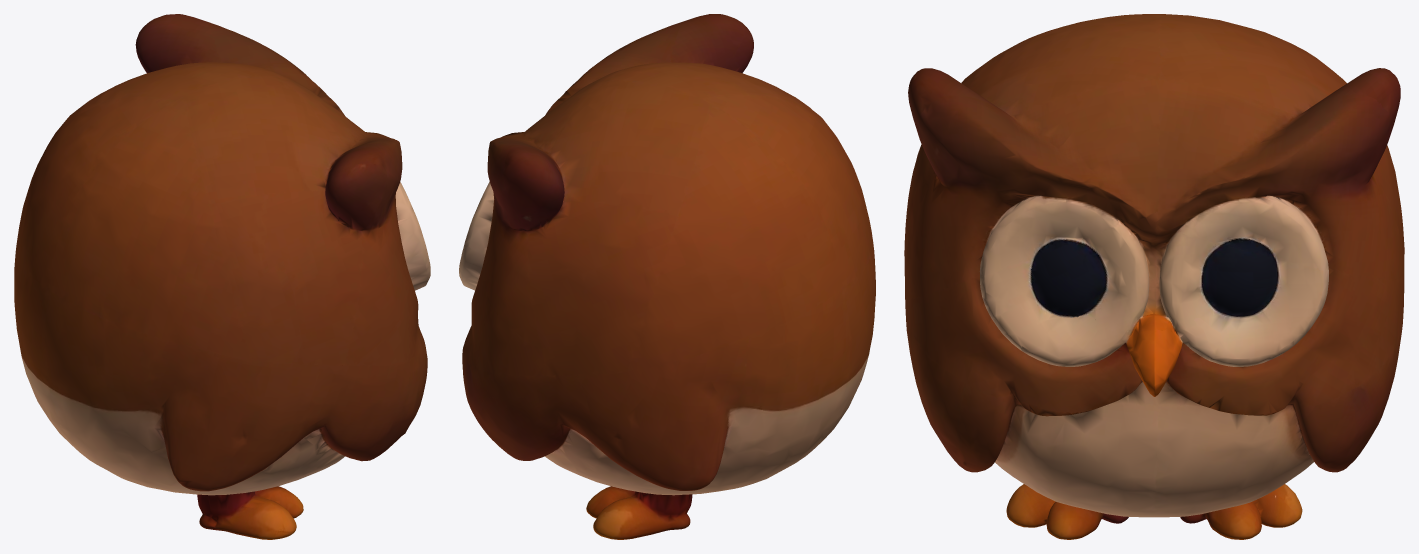
Rendered from owl.glb.
3 views of the same model, side by side, from view 1: azimuth 30°, elevation 25°; view 2: azimuth 150°, elevation 25°; view 3: azimuth 270°, elevation 25° (orthographic). The views are drawn at different scales.
Parts seen in each view (by area): view 1: tripo_node_a7a7790c-5711-47ba-a1af-91a6a1873030; view 2: tripo_node_a7a7790c-5711-47ba-a1af-91a6a1873030; view 3: tripo_node_a7a7790c-5711-47ba-a1af-91a6a1873030.
Boxes of the visible parts, x1=… form: tripo_node_a7a7790c-5711-47ba-a1af-91a6a1873030: x1=14, y1=14, x2=430, y2=539; tripo_node_a7a7790c-5711-47ba-a1af-91a6a1873030: x1=459, y1=14, x2=875, y2=539; tripo_node_a7a7790c-5711-47ba-a1af-91a6a1873030: x1=904, y1=14, x2=1404, y2=539.
Bounding box in the file's own units: 0.9528 × 0.9997 × 0.9327.
Materials: 1 (1 with a texture image).
